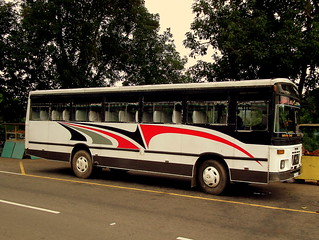bus: (23, 78, 302, 195)
